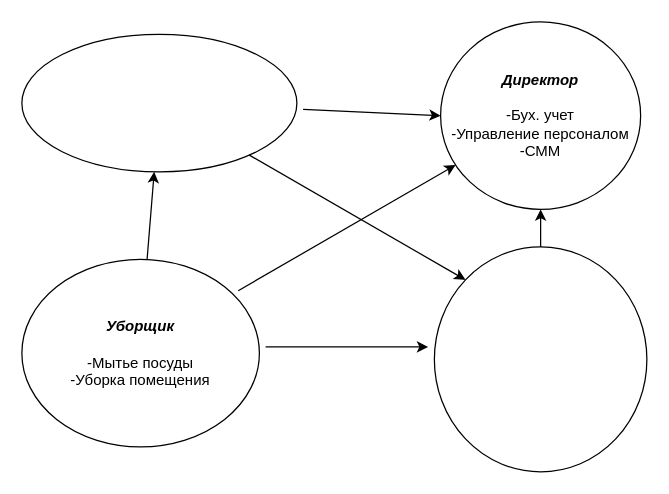
Some shapes in this 669 by 494 pixel diagram are drawn without their labels. Each missing label, with the box of its shape:
Администратор - Касса -Бар -СММ: (433, 246, 647, 472)
Повар - Готовка еды -Поддержание кухни в рабочем виде -Выдача блюд: (21, 33, 297, 172)
